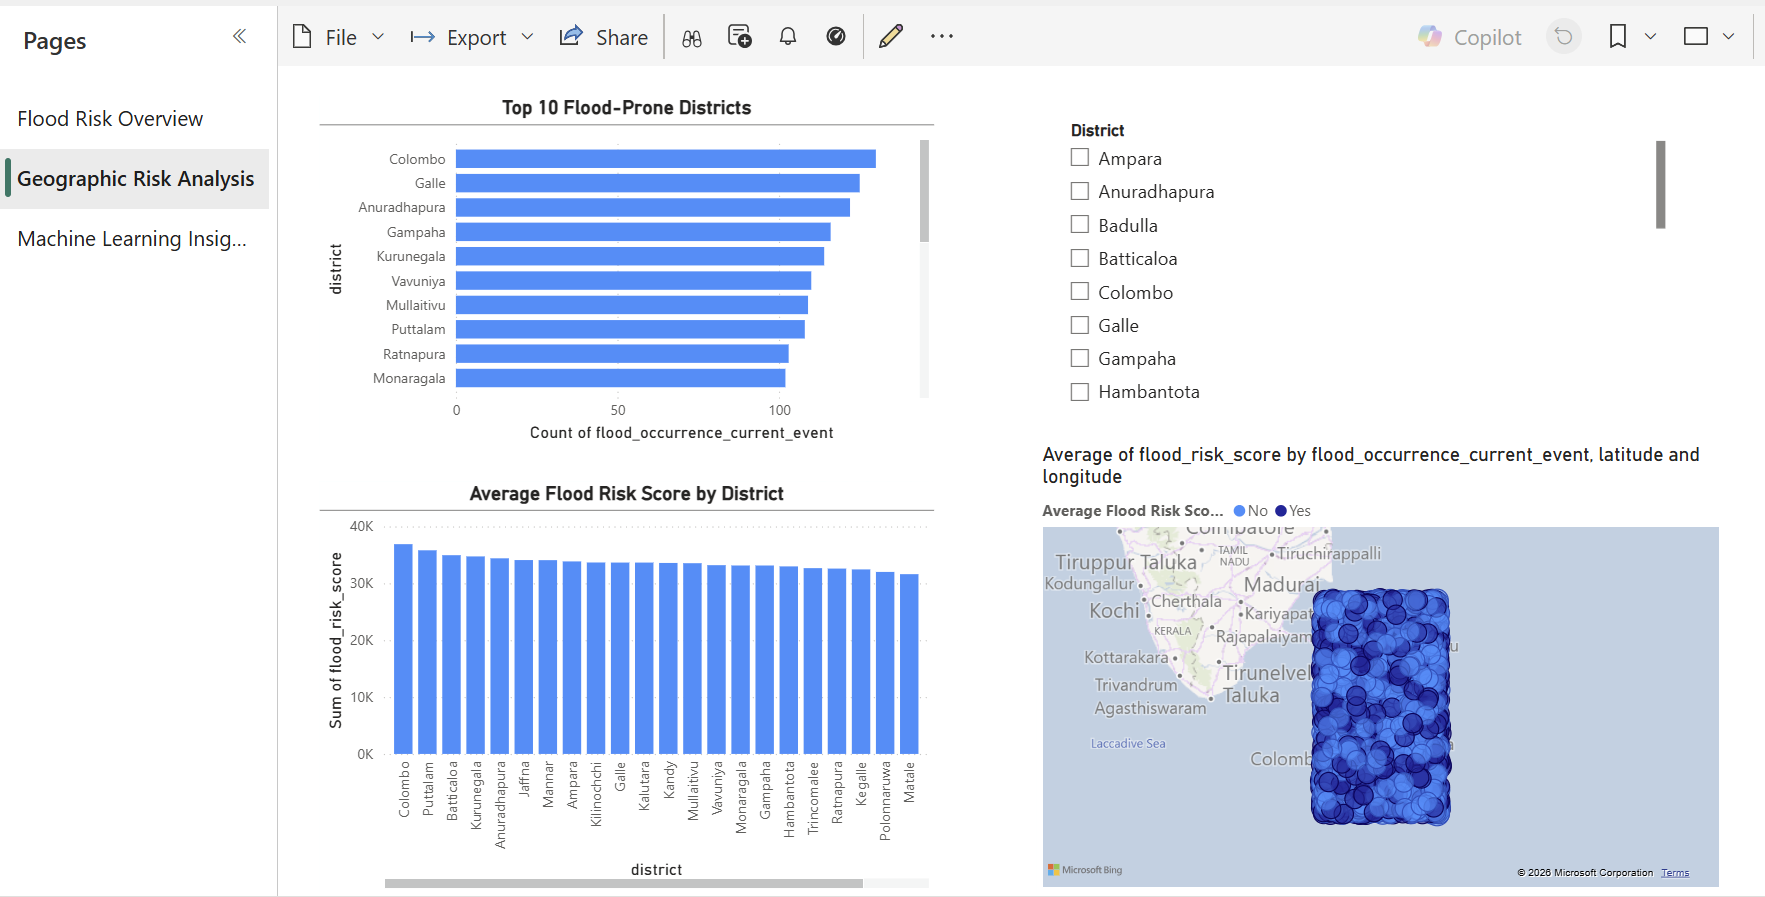

What the dashboard file says about the page in this screenshot:
{"tool":"powerbi","page":{"name":"Geographic Risk Analysis","canvas":[1280,720],"ordinal":1},"visuals":[{"type":"clusteredBarChart","title":"Top 10 Flood-Prone Districts","fields":{"Category":["sri_lanka_flood_risk_dataset_25.district"],"Y":["CountNonNull(sri_lanka_flood_risk_dataset_25.flood_occurrence_current_event)"]},"box":[83.3,10.6,533,212],"z":0},{"type":"slicer","fields":{"Values":["sri_lanka_flood_risk_dataset_25.district"]},"box":[682.9,10.6,533,230.2],"z":1000},{"type":"clusteredColumnChart","title":"Average Flood Risk Score by District","fields":{"Category":["sri_lanka_flood_risk_dataset_25.district"],"Y":["Sum(sri_lanka_flood_risk_dataset_25.flood_risk_score)"]},"box":[133.3,330.1,533,358.9],"z":2000},{"type":"map","fields":{"Y":["sri_lanka_flood_risk_dataset_25.latitude"],"X":["sri_lanka_flood_risk_dataset_25.longitude"],"Size":["Avg(sri_lanka_flood_risk_dataset_25.flood_risk_score)"],"Series":["sri_lanka_flood_risk_dataset_25.flood_occurrence_current_event"]},"box":[682.9,330.1,596.6,389.2],"z":3000}]}

Visuals, with their boxes on the page's 1280x720 design canvas (x1, y1, x2, y2). These are canvas units, not pixel positions in the 1765x897 screenshot, which may show the page scaled, cropped or inside an application window:
"Top 10 Flood-Prone Districts" clusteredBarChart: <region>83, 11, 616, 223</region>
slicer - sri_lanka_flood_risk_dataset_25.district: <region>683, 11, 1216, 241</region>
"Average Flood Risk Score by District" clusteredColumnChart: <region>133, 330, 666, 689</region>
map - sri_lanka_flood_risk_dataset_25.latitude x sri_lanka_flood_risk_dataset_25.longitude: <region>683, 330, 1280, 719</region>
